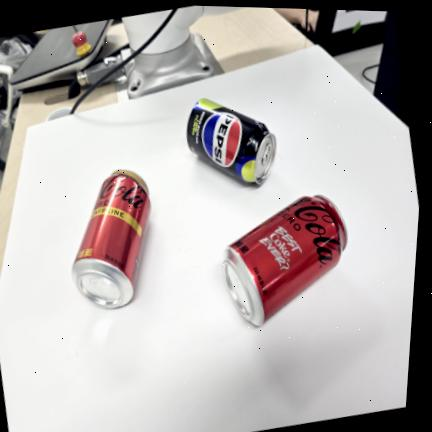can_coke_decaf: (69, 167, 154, 312)
can_coke_zero: (219, 192, 350, 330)
can_pepsi_zero: (184, 98, 277, 191)
